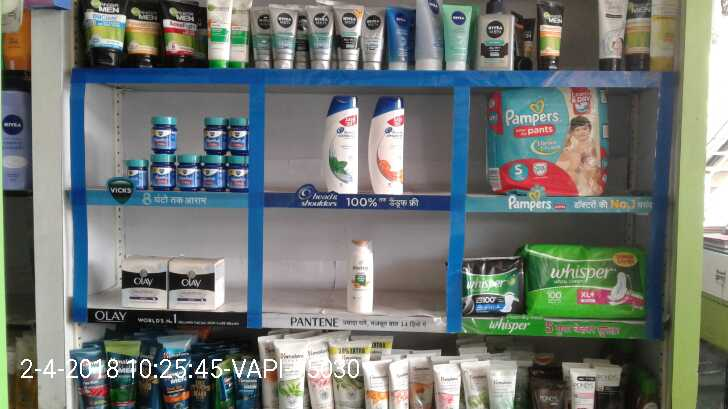vicks: (126, 113, 250, 191)
